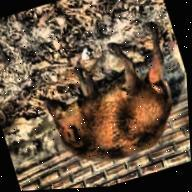boar: (14, 15, 192, 182)
